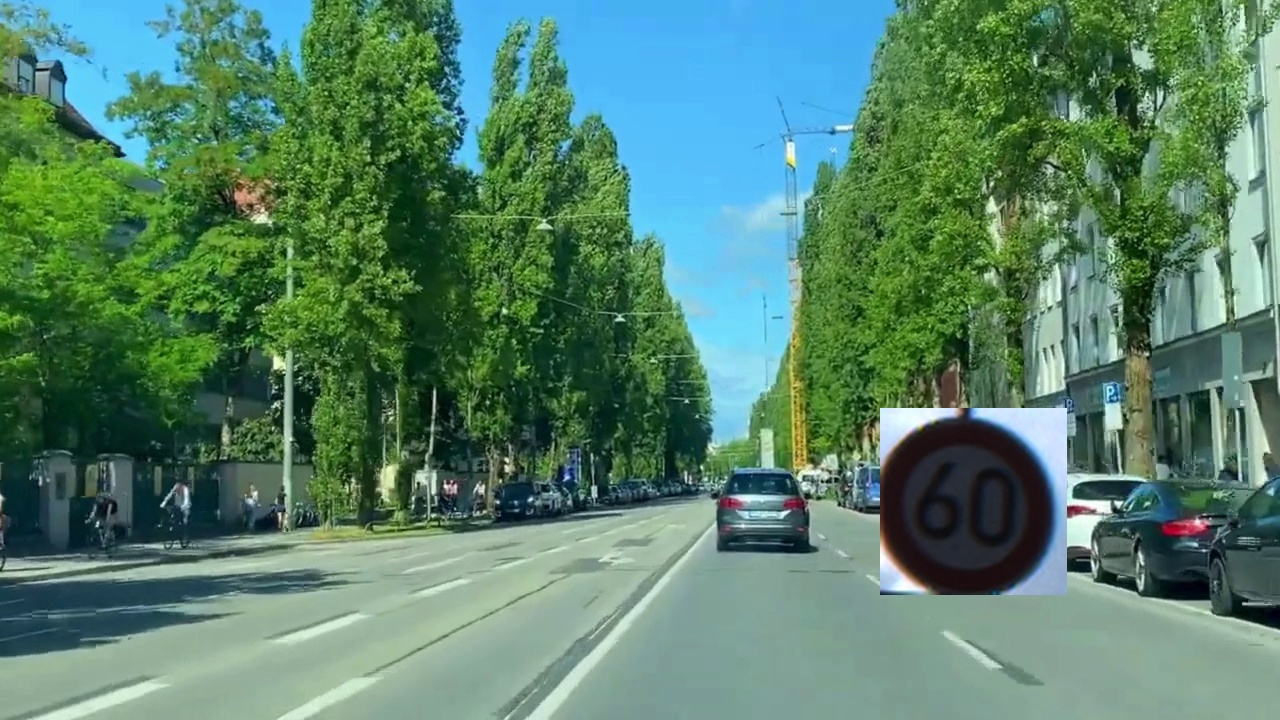Speed 60: (880, 408, 1067, 595)
